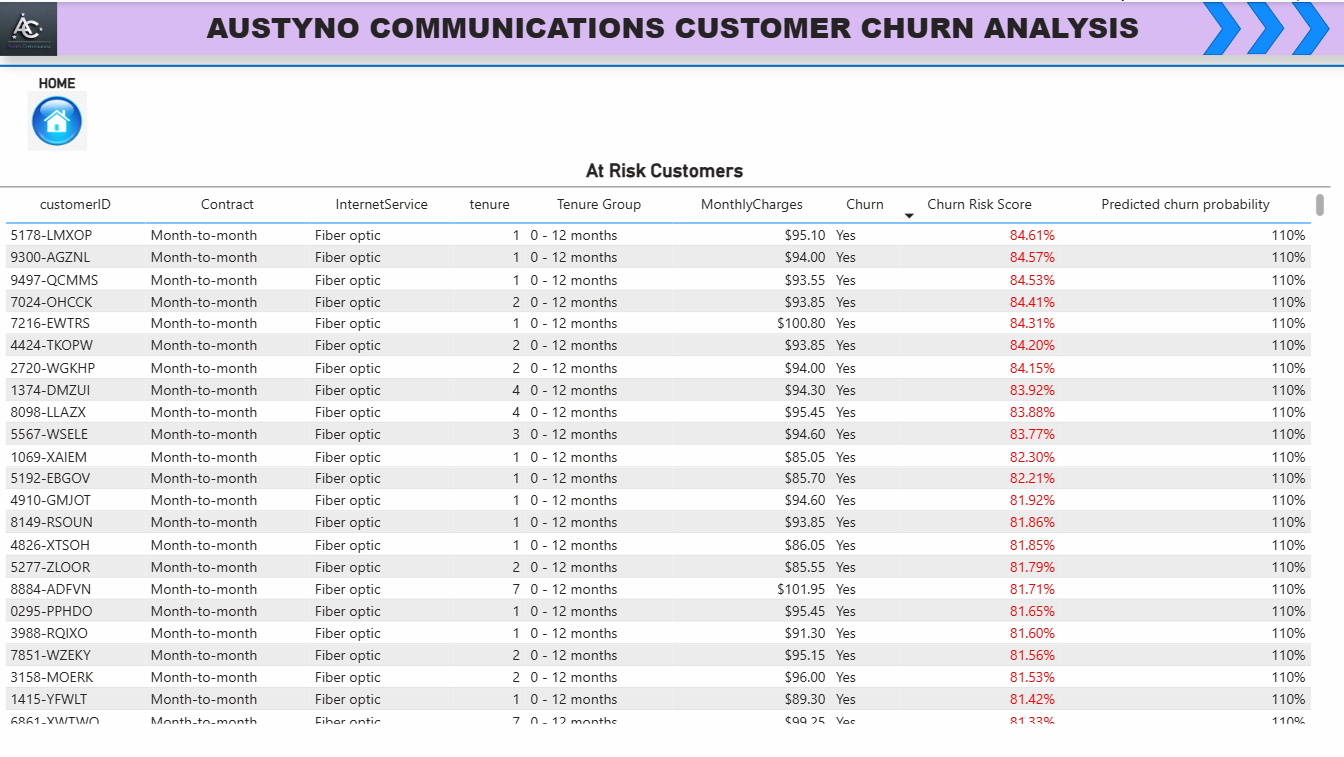

What the dashboard file says about the page in this screenshot:
{"tool":"powerbi","page":{"name":"At-Risk Customers","canvas":[1280,720],"ordinal":4},"visuals":[{"type":"tableEx","title":"At Risk Customers","fields":{"Values":["FactCustomerChurn.customerID","FactCustomerChurn.Contract","FactCustomerChurn.InternetService","FactCustomerChurn.tenure","FactCustomerChurn.Tenure Group","FactCustomerChurn.MonthlyCharges","FactCustomerChurn.Churn","FactCustomerChurn.Churn Risk Score","_Measures.Predicted churn probability"]},"box":[0,149.6,1264.5,540.2],"z":0},{"type":"group","id":"g1","title":"Group 2","box":[0,0,1280.5,81.9],"z":1000},{"type":"image","title":"HOME","box":[16.6,70.1,77.2,71.2],"z":2000},{"type":"textbox","box":[0,0,1280,50.4],"z":7000,"group":"g1"},{"type":"image","box":[0,0,56.3,51.5],"z":9000,"group":"g1"},{"type":"shape","box":[1142.8,0,36.4,50.7],"z":10000,"group":"g1"},{"type":"shape","box":[1227.4,0,36.4,50.7],"z":11000,"group":"g1"},{"type":"shape","box":[1185.1,0,36.1,49.7],"z":12000,"group":"g1"},{"type":"shape","box":[0,39,1280.5,42.9],"z":13000,"group":"g1"}]}

Visuals, with their boxes in screenshot pixels (x1, y1, x2, y2), scaled from the page's 1280x720 canvas onto the 1344x757 screenshot:
"At Risk Customers" tableEx: <region>0, 157, 1328, 725</region>
"Group 2" group: <region>0, 0, 1343, 86</region>
"HOME" image: <region>17, 74, 98, 149</region>
textbox: <region>0, 0, 1343, 53</region>
image: <region>0, 0, 59, 54</region>
shape: <region>1200, 0, 1238, 53</region>
shape: <region>1289, 0, 1327, 53</region>
shape: <region>1244, 0, 1282, 52</region>
shape: <region>0, 41, 1343, 86</region>
